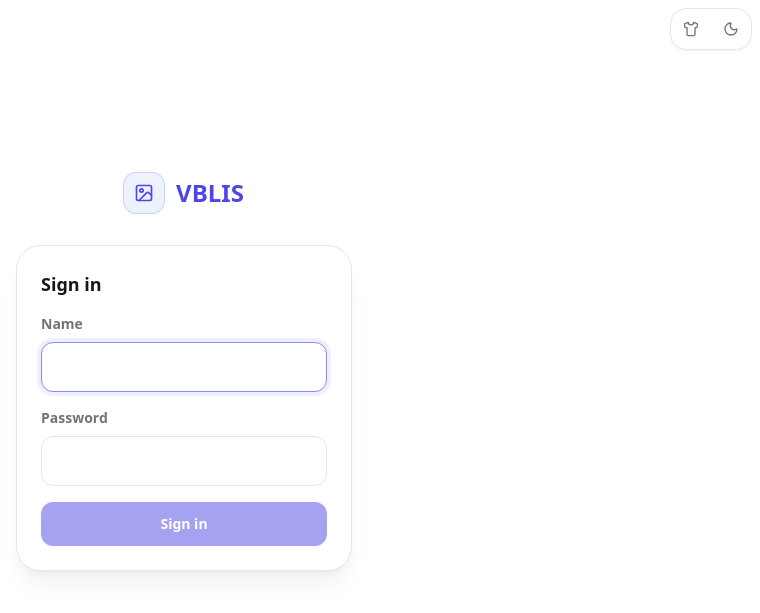
it: SessionGate › in a browser › signing in › says so when the name or the password is wrong, and keeps the form
Type "alice" into the field labelled "Name". click: (184, 367)
box: [41, 342, 327, 392]
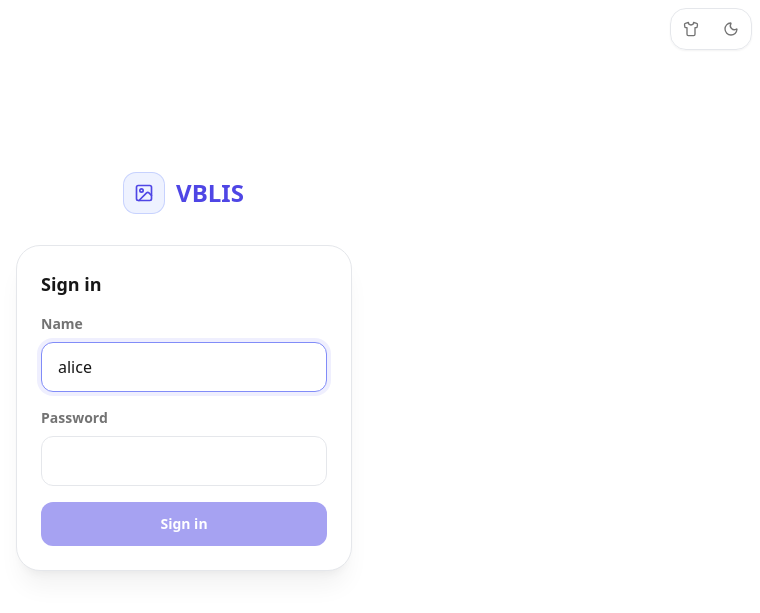
Type "secret" into the password field labelled "Password". click: (184, 461)
box: [41, 436, 327, 486]
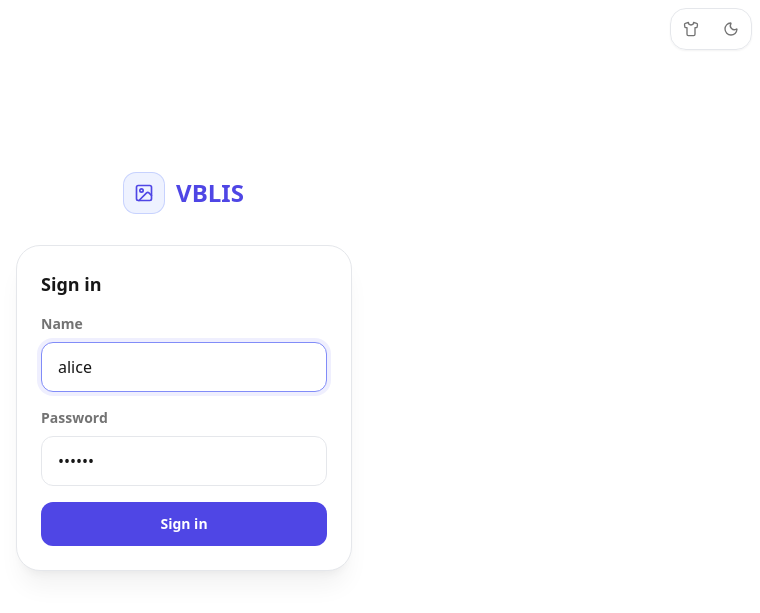
Click the button "Sign in". click: click(184, 524)
box: [41, 502, 327, 546]
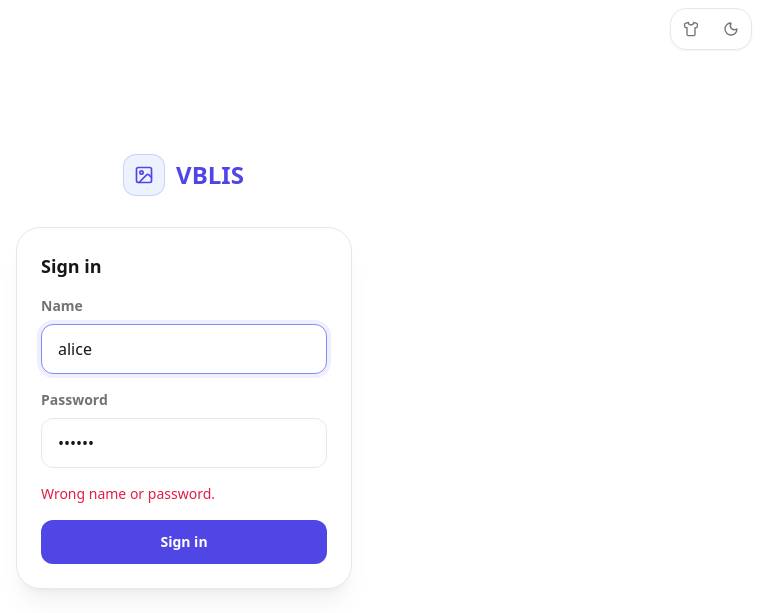
Expected: the button "Sign in" is enabled, [41, 520, 327, 564]
Expected: the message reads "Wrong name or password.", [41, 484, 215, 503]
